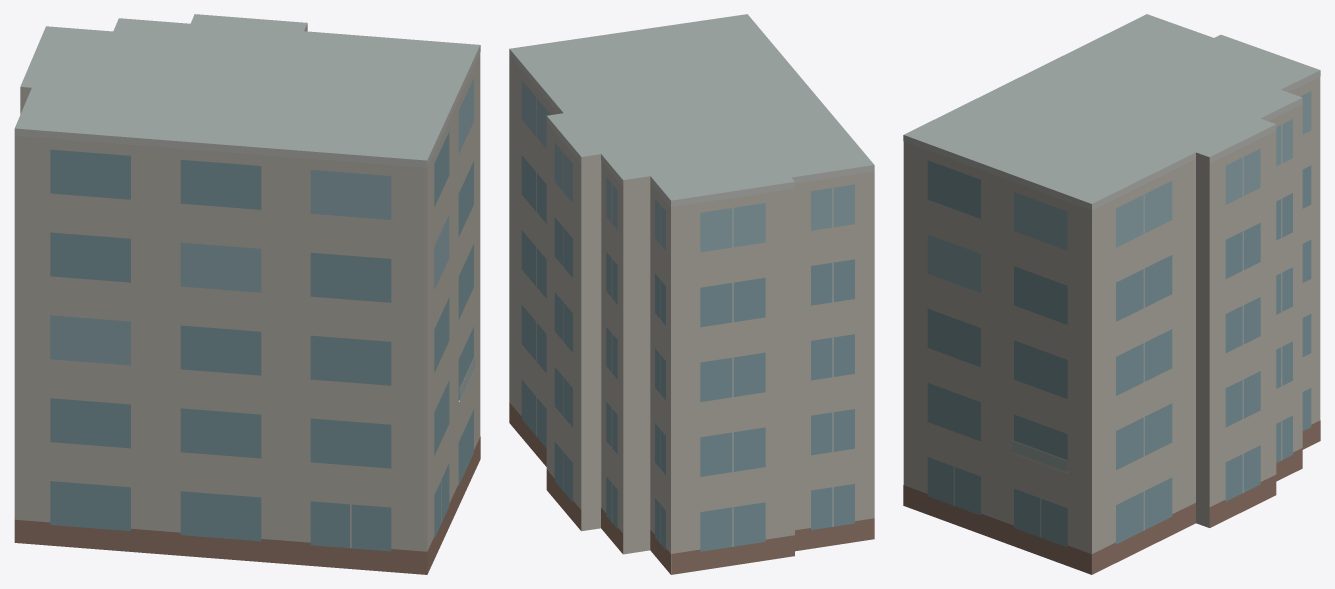
The model's file is survey-upis-33035829.glb.
3 views of the same model, side by side, from view 1: azimuth 30°, elevation 25°; view 2: azimuth 150°, elevation 25°; view 3: azimuth 270°, elevation 25° (orthographic). The views are drawn at different scales.
Parts seen in each view (by area): view 1: survey-upis-33035829.tmp; view 2: survey-upis-33035829.tmp; view 3: survey-upis-33035829.tmp.
Part boxes in pixels (x1,y1,x2,y2): survey-upis-33035829.tmp: [14, 14, 480, 574]; survey-upis-33035829.tmp: [509, 14, 874, 574]; survey-upis-33035829.tmp: [903, 14, 1320, 574].
Size of the model in its own units: 15.39 by 14 by 14.27.
